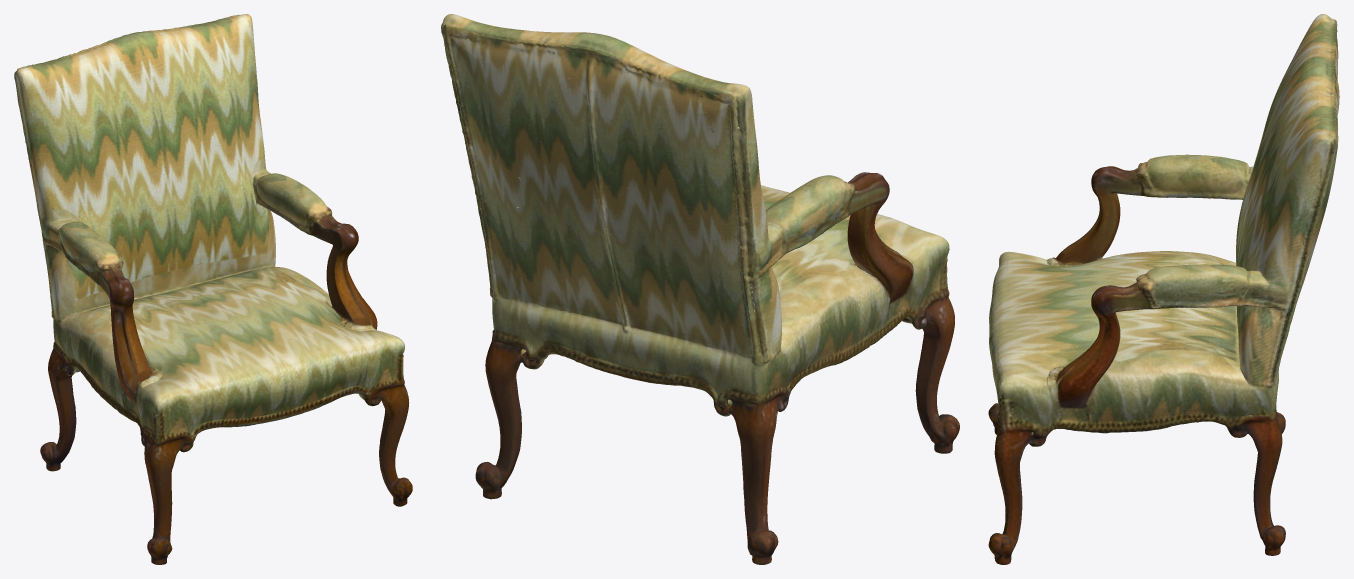
The model's file is 扶手椅.glb.
3 renders of one model, left to right at view 1: azimuth 30°, elevation 25°; view 2: azimuth 150°, elevation 25°; view 3: azimuth 270°, elevation 25°, orthographic. The views are drawn at different scales.
Parts seen in each view (by area): view 1: geometry_0; view 2: geometry_0; view 3: geometry_0.
Part boxes in pixels (left/top/right/bottom): geometry_0: left=14, top=14, right=412, bottom=564; geometry_0: left=441, top=14, right=959, bottom=564; geometry_0: left=988, top=14, right=1339, bottom=564.
Size of the model in its own units: 0.7293 by 1.05 by 0.773.
1 material, 1 textured.
